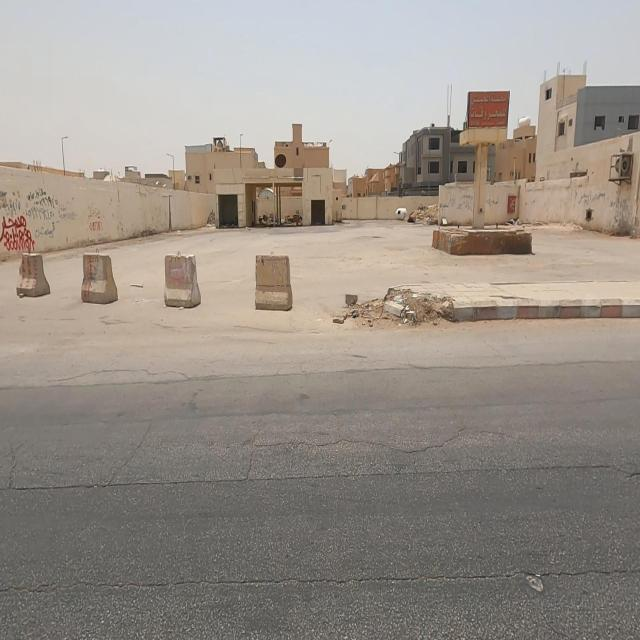Graffiti: (1, 184, 59, 253), (88, 206, 104, 232), (580, 193, 608, 207), (60, 203, 79, 222), (458, 194, 474, 213), (440, 197, 455, 212), (487, 196, 501, 208)
